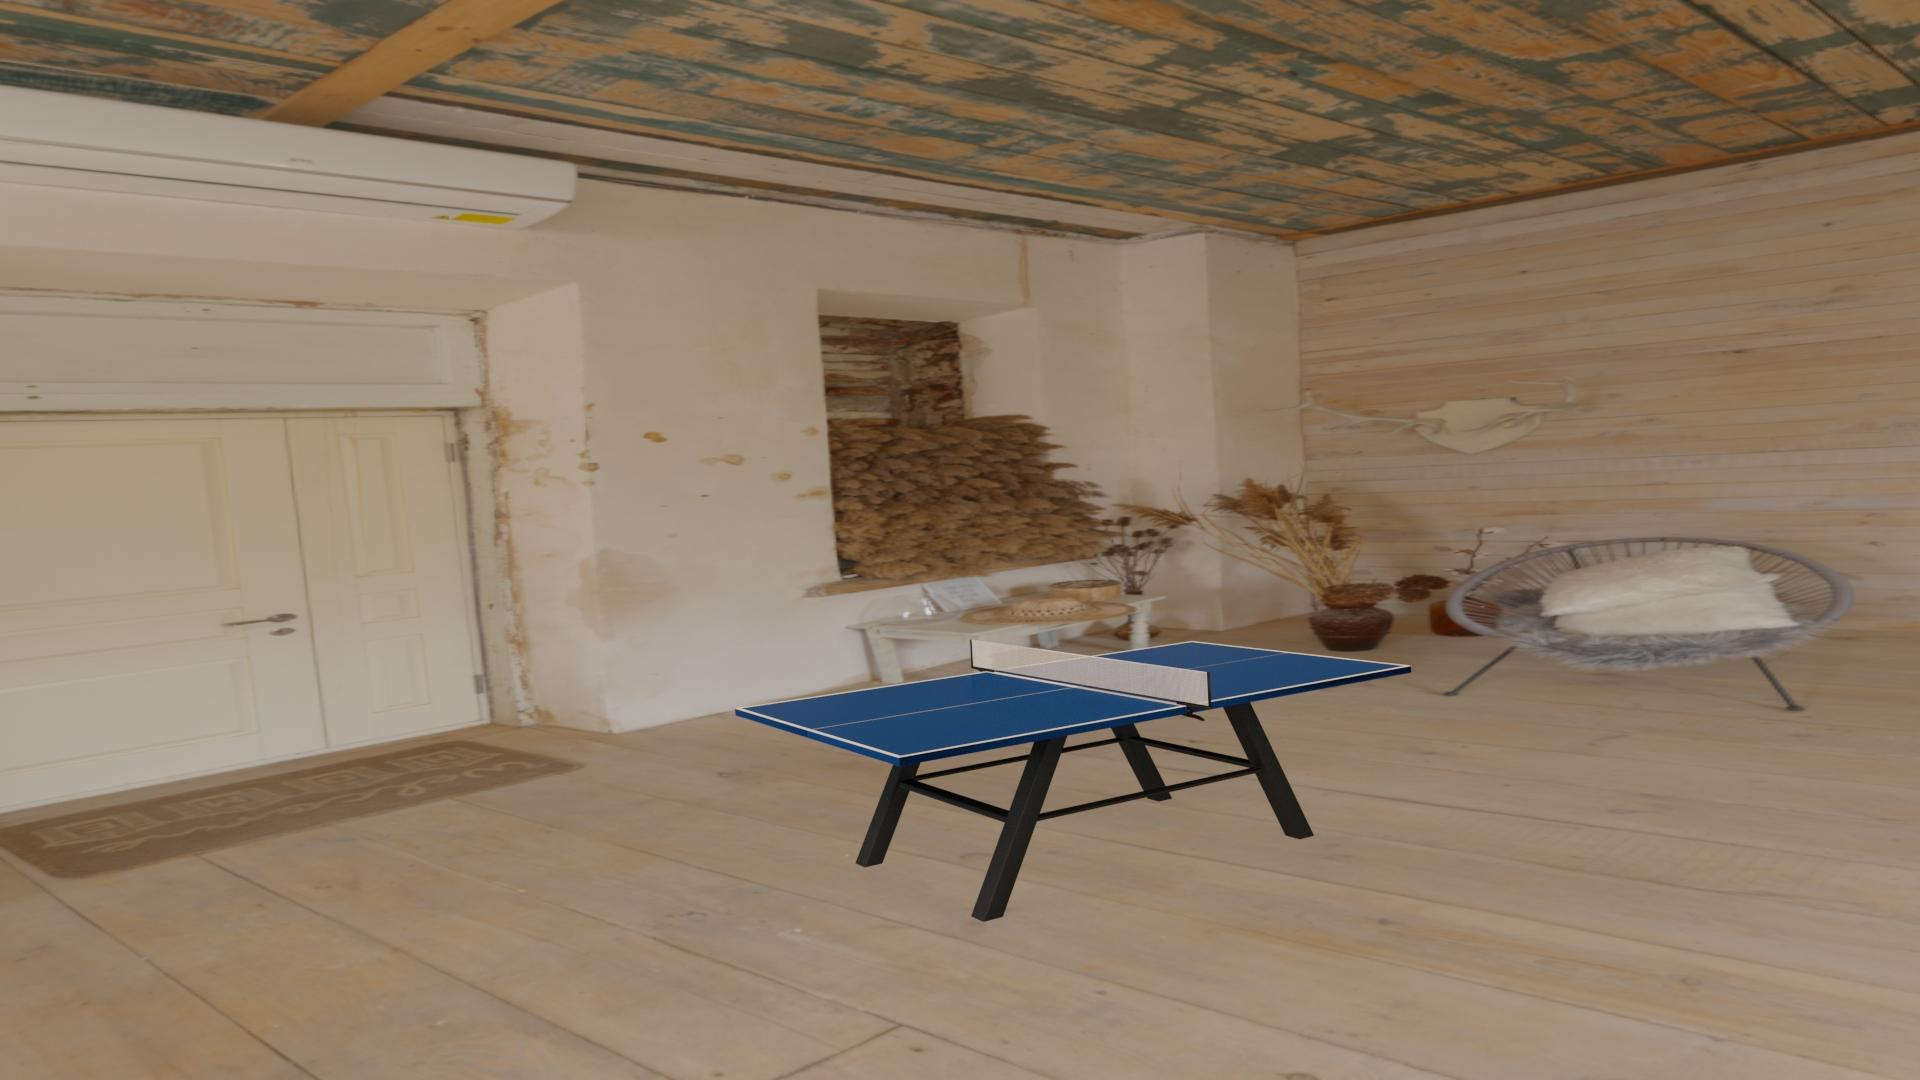table: (741, 642, 1406, 756)
